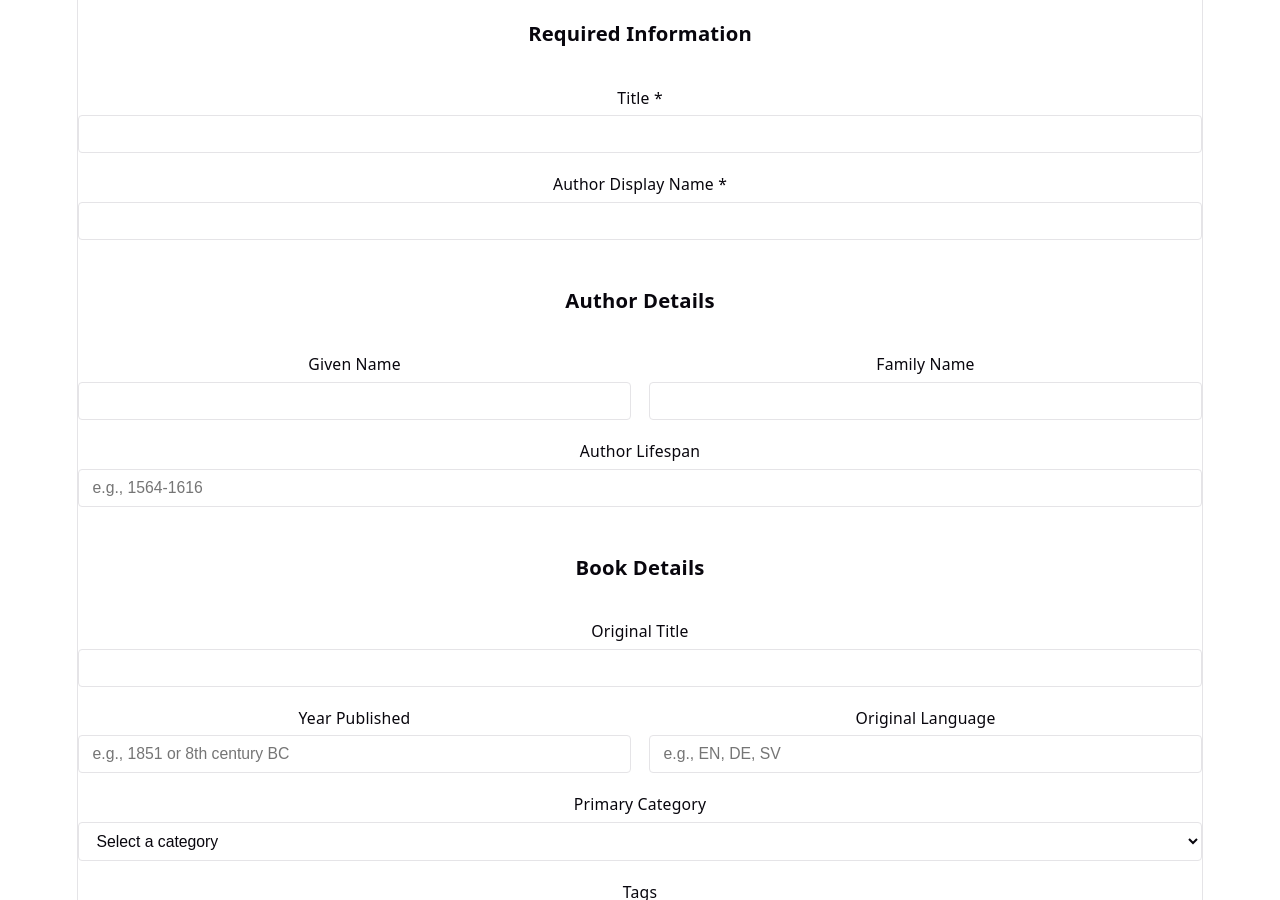
AddBookForm › Error Handling › should display error message on submission failure
Type "The Iliad" into the field labelled "Title *" at (640, 134), box top-left (78, 115), bottom-right (1202, 153)
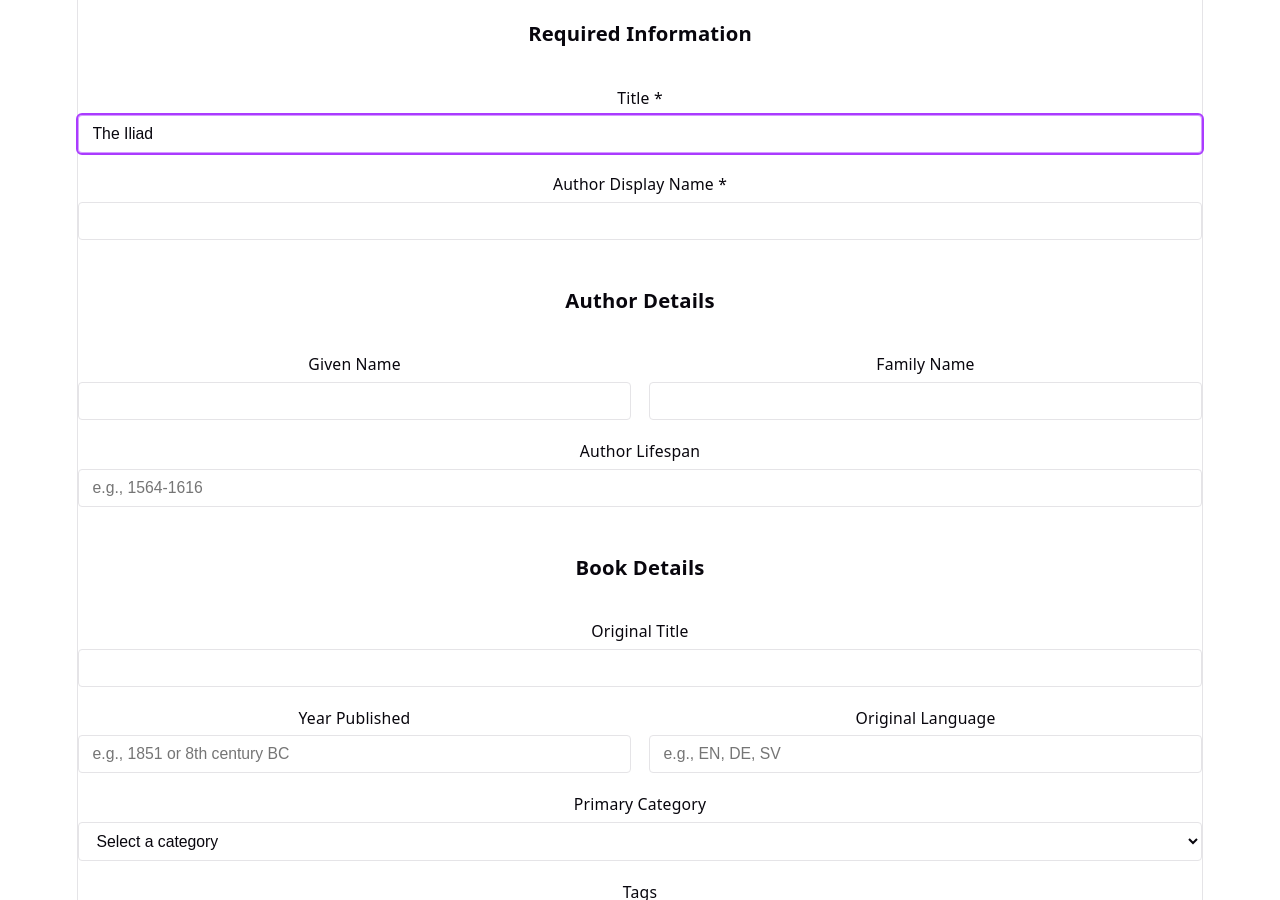
Type "Homer" into the field labelled "Author Display Name *" at (640, 221), box top-left (78, 202), bottom-right (1202, 240)
(page scrolled)
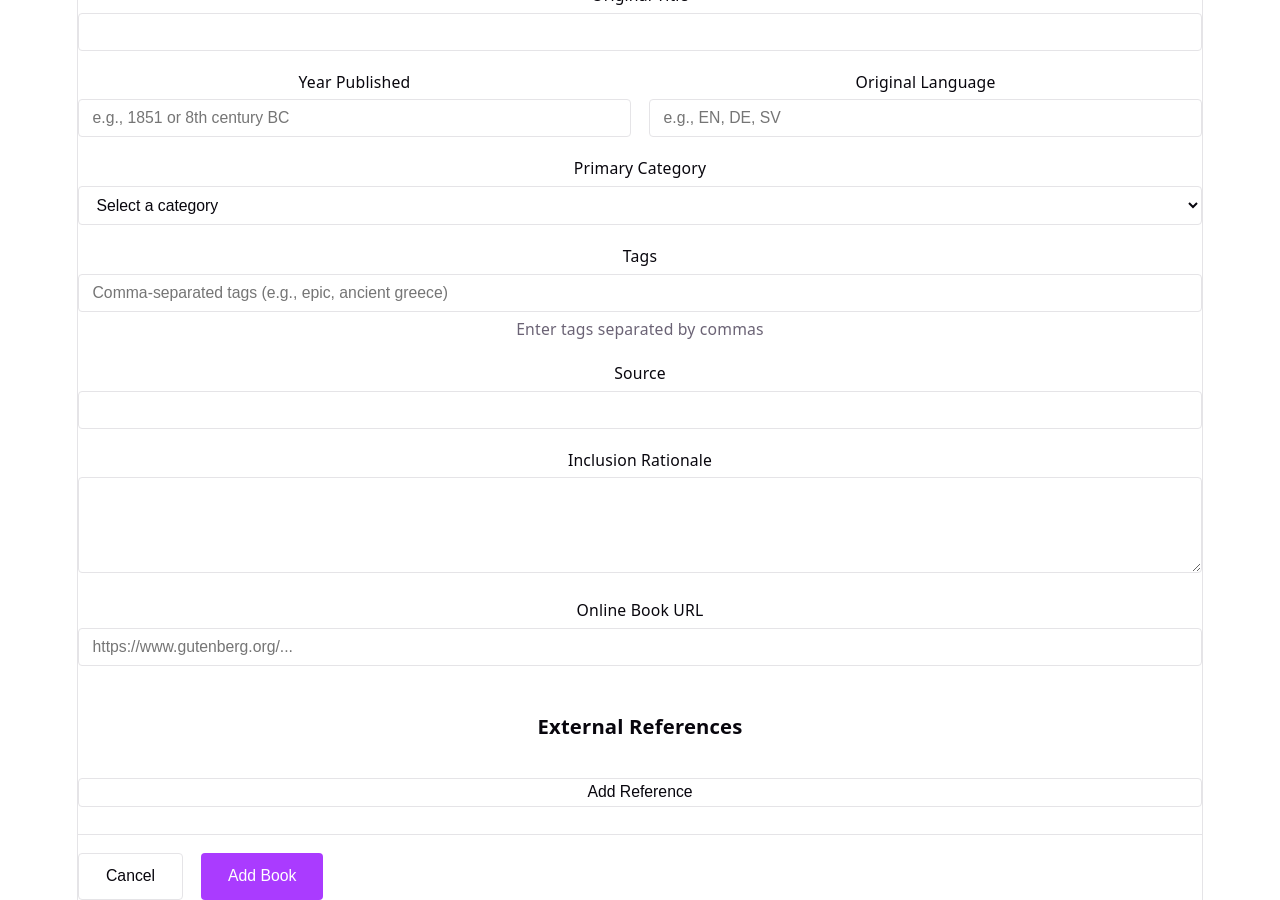
Click the button "Add Book" at (262, 876), box top-left (201, 853), bottom-right (323, 899)
(page scrolled)
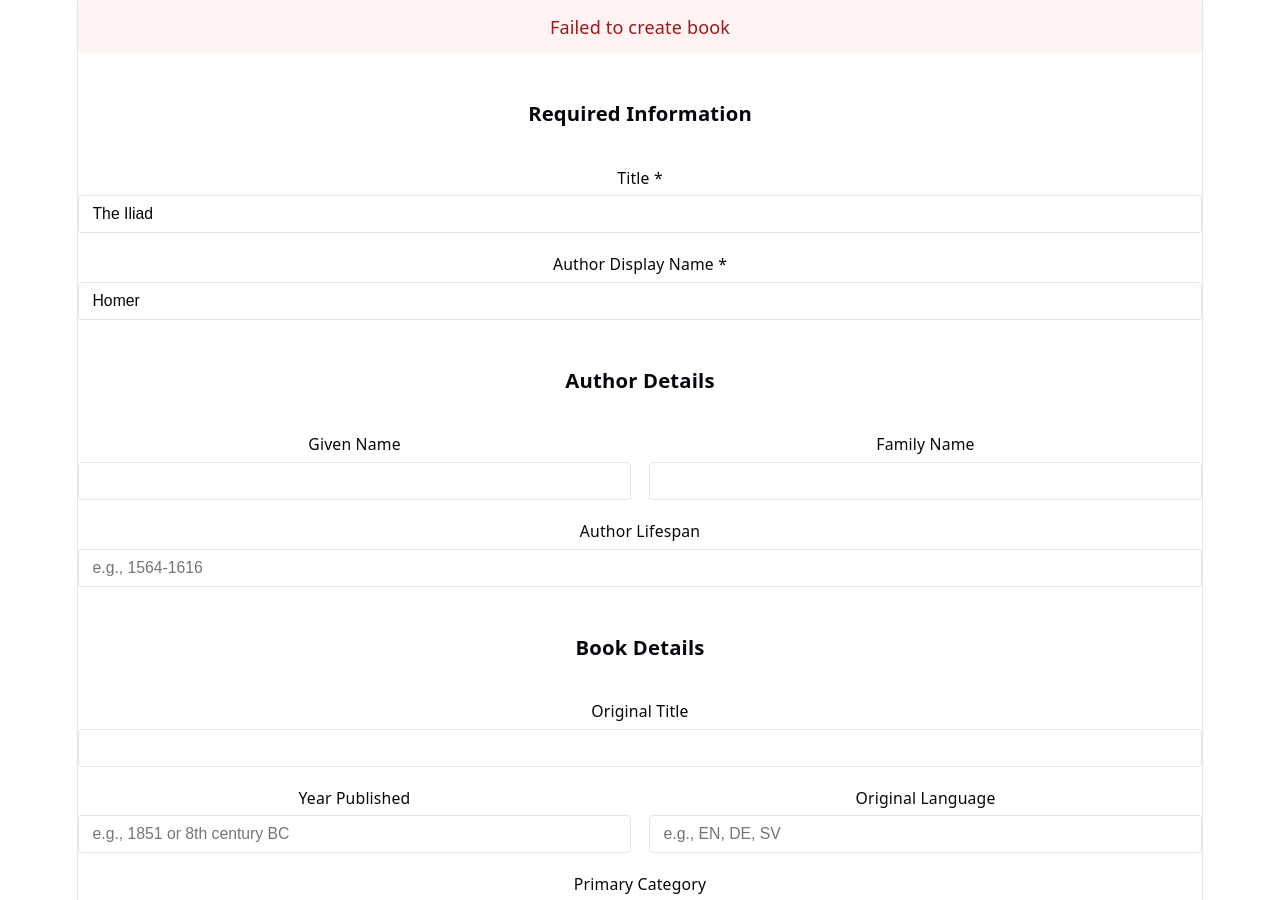
Result: the text "Failed to create book" is shown at top-left (78, 0), bottom-right (1202, 53)
